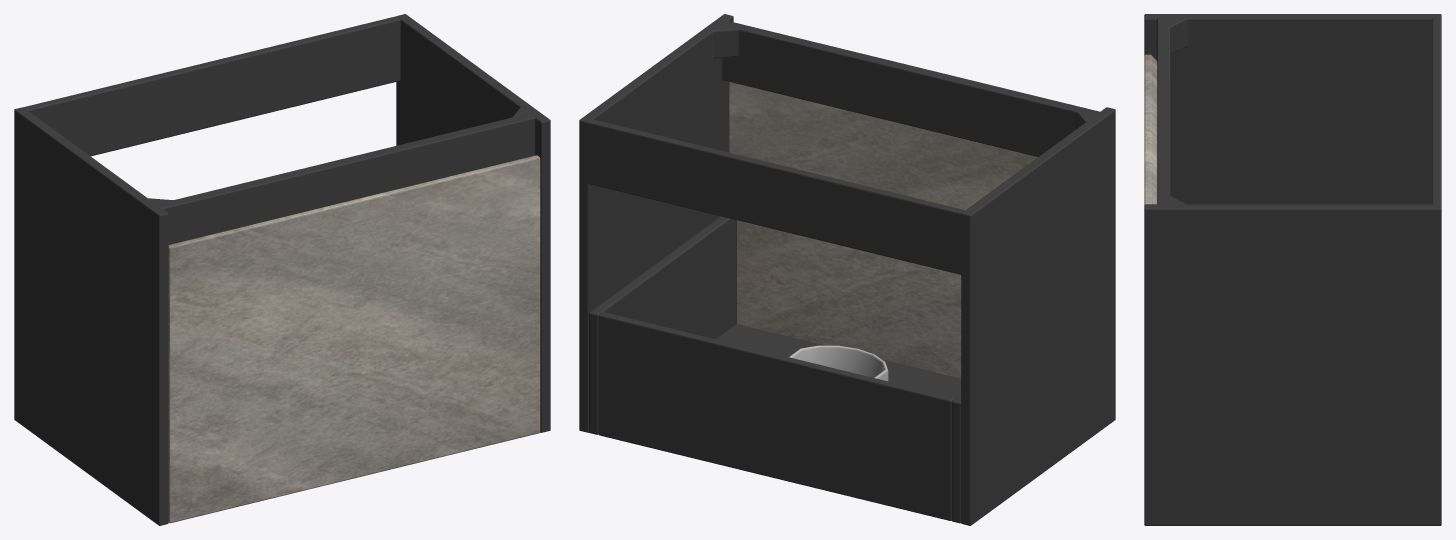
Rendered from Vanity-Cabinet-Hybrid-Pebble-600mm.glb.
3 renders of one model, left to right at view 1: azimuth 30°, elevation 25°; view 2: azimuth 150°, elevation 25°; view 3: azimuth 270°, elevation 25°, orthographic. The views are drawn at different scales.
Parts seen in each view (by area): view 1: VC60 6; view 2: VC60 6; view 3: VC60 6.
Boxes of the visible parts, left/top/right/bottom form: VC60 6: left=14, top=14, right=550, bottom=525; VC60 6: left=579, top=14, right=1115, bottom=525; VC60 6: left=1144, top=14, right=1441, bottom=525.
Size of the model in its own units: 0.6 by 0.455 by 0.386.
Materials: 3 (1 with a texture image).
